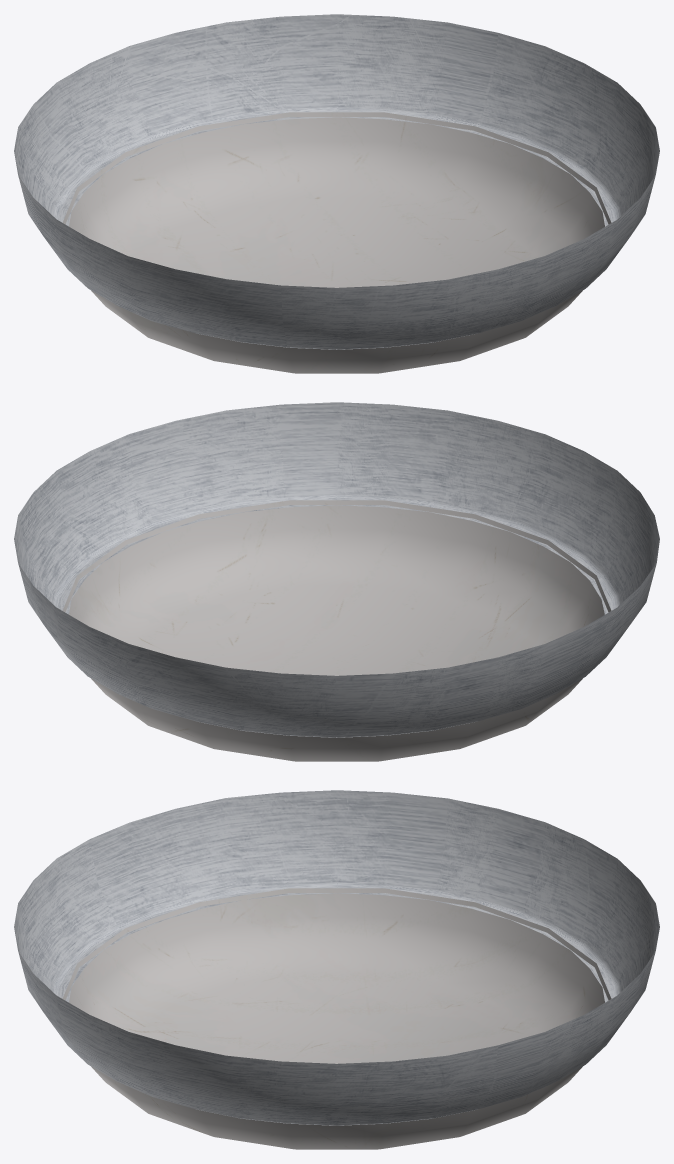
Rendered from SM_Lamp_D.fbx.
3 views of the same model, one above another, from view 1: azimuth 30°, elevation 25°; view 2: azimuth 150°, elevation 25°; view 3: azimuth 270°, elevation 25° (orthographic).
Visible parts, largest first — view 1: SM_Lamp_D; view 2: SM_Lamp_D; view 3: SM_Lamp_D.
Part boxes in pixels (x1,y1,x2,y2): SM_Lamp_D: (14, 14, 659, 373); SM_Lamp_D: (14, 402, 659, 761); SM_Lamp_D: (14, 790, 659, 1149).
Size of the model in its own units: 27.11 by 27.04 by 7.52.
2 materials, 2 textured.
